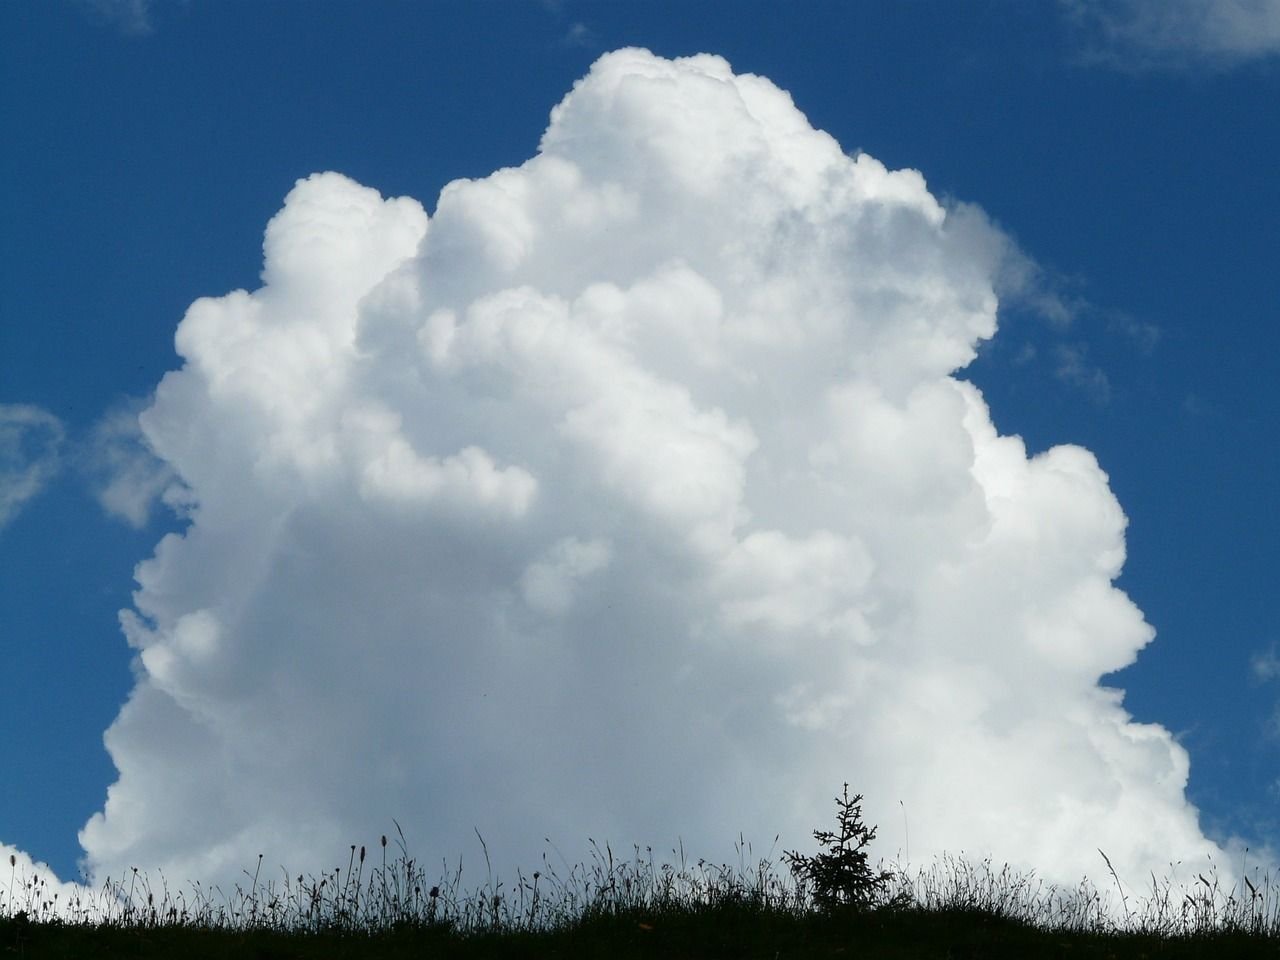Cumulus: (77, 33, 1240, 923)
